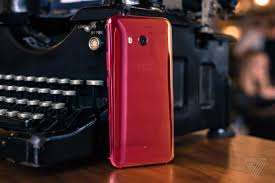htc: (101, 14, 177, 169)
